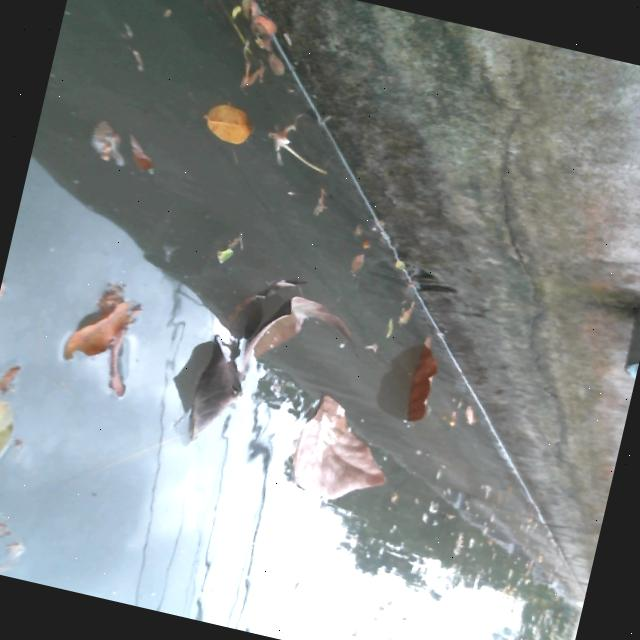Big-leaf: (164, 273, 382, 483), (272, 382, 400, 529), (28, 261, 151, 402), (386, 320, 451, 436)
Small-leaf: (324, 228, 448, 337), (73, 118, 168, 186), (195, 88, 268, 148), (0, 397, 35, 496), (449, 397, 486, 430)
